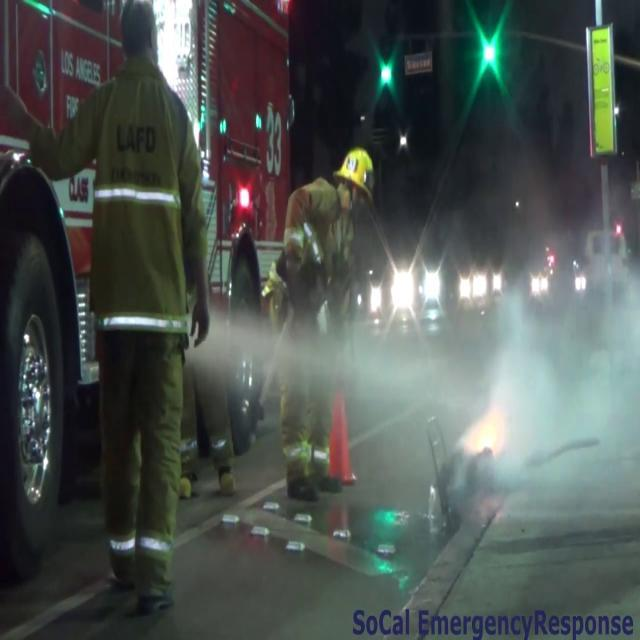Smoke: (450, 126, 640, 528)
